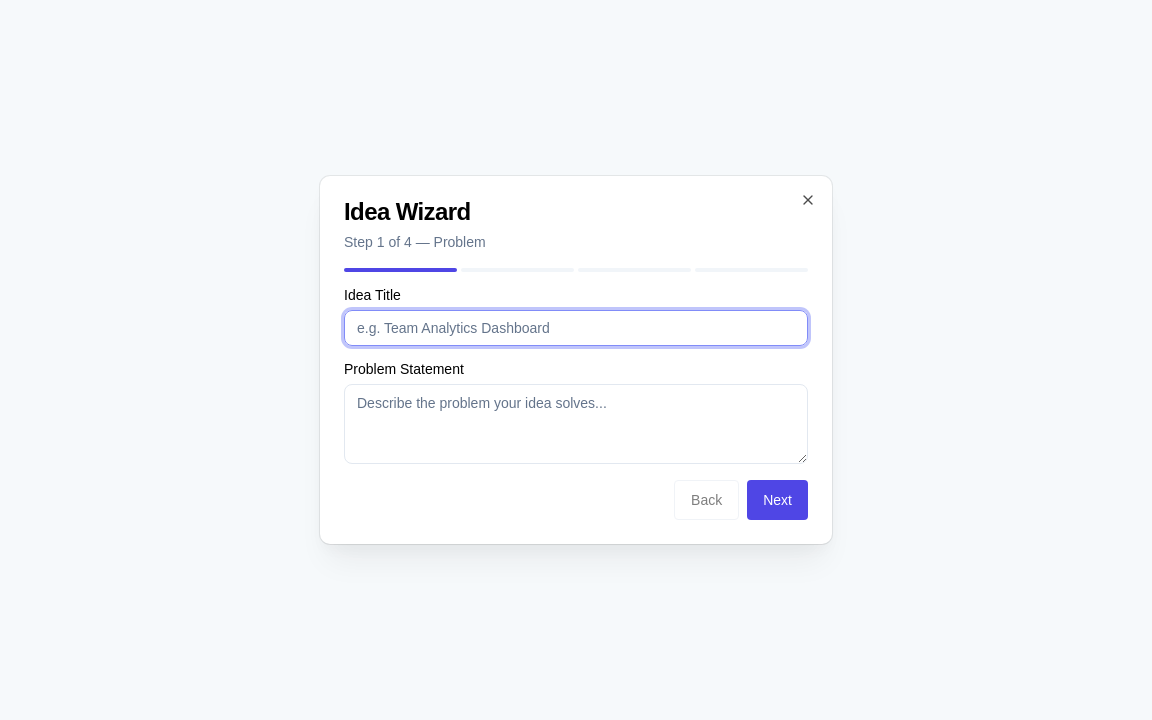
Scenario: IdeaWizard › navigates back from step 2
Click the button "Next" at (778, 500), box [747,480,808,520]
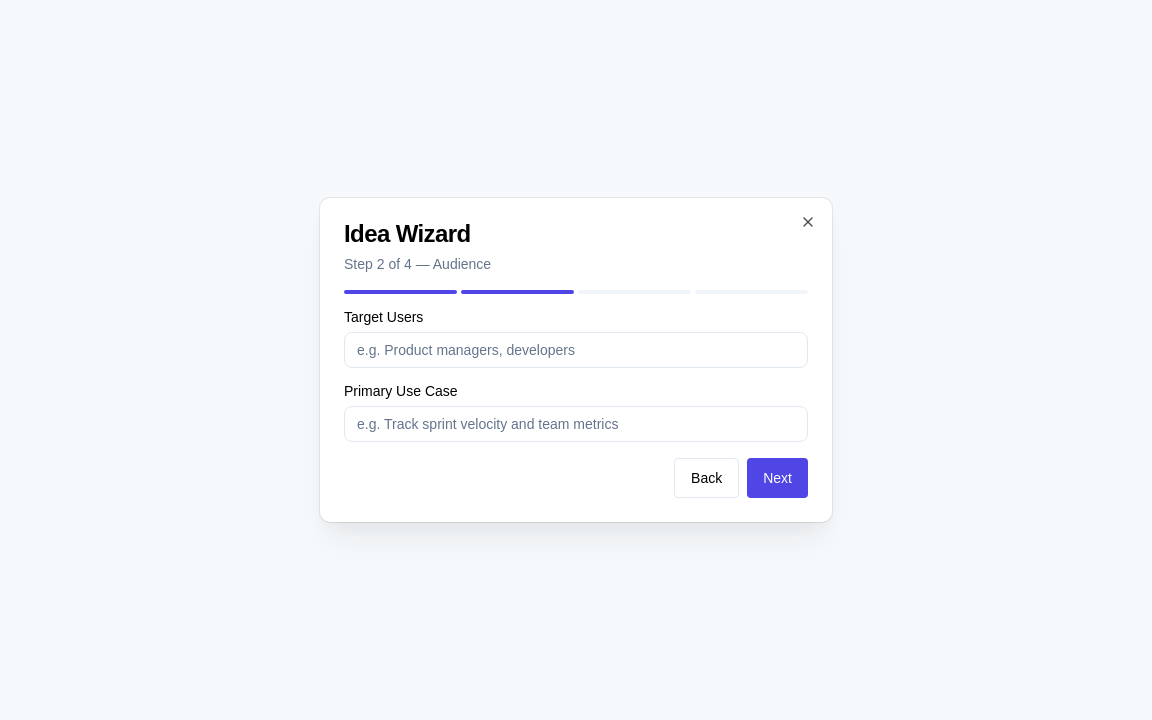
Click the button "Back" at (707, 478), box [674,458,739,498]
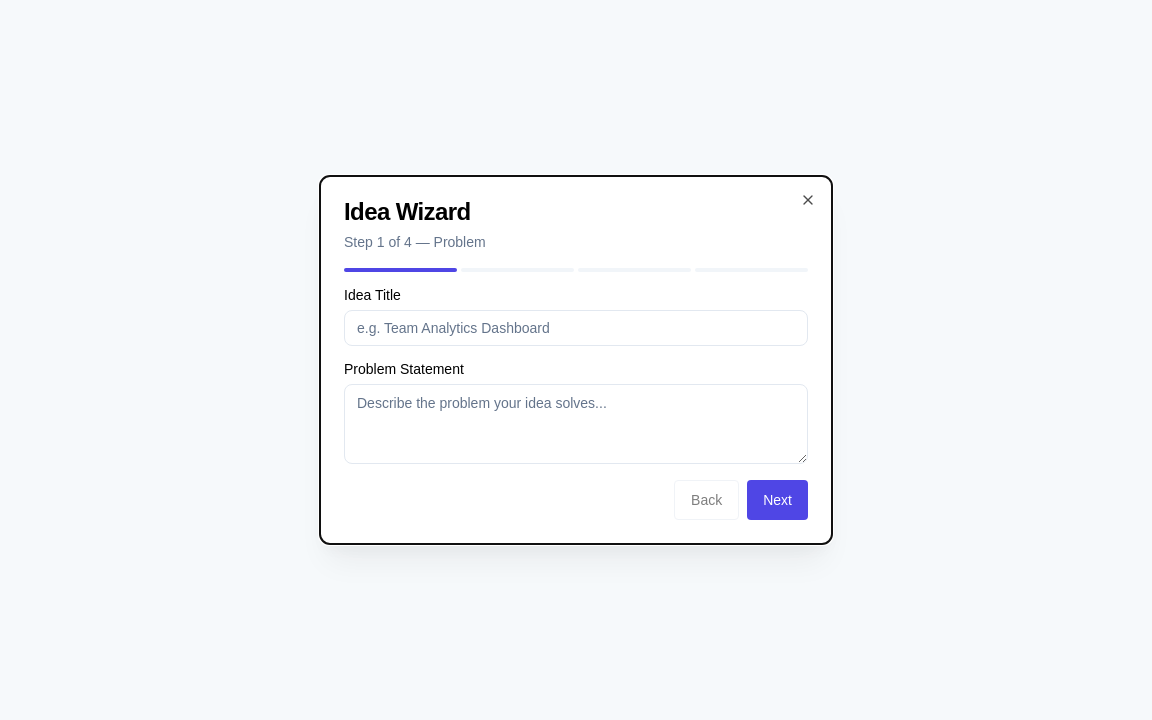
Now the text "Step 1 of 4 — Problem" is shown, box [344,234,486,250]
